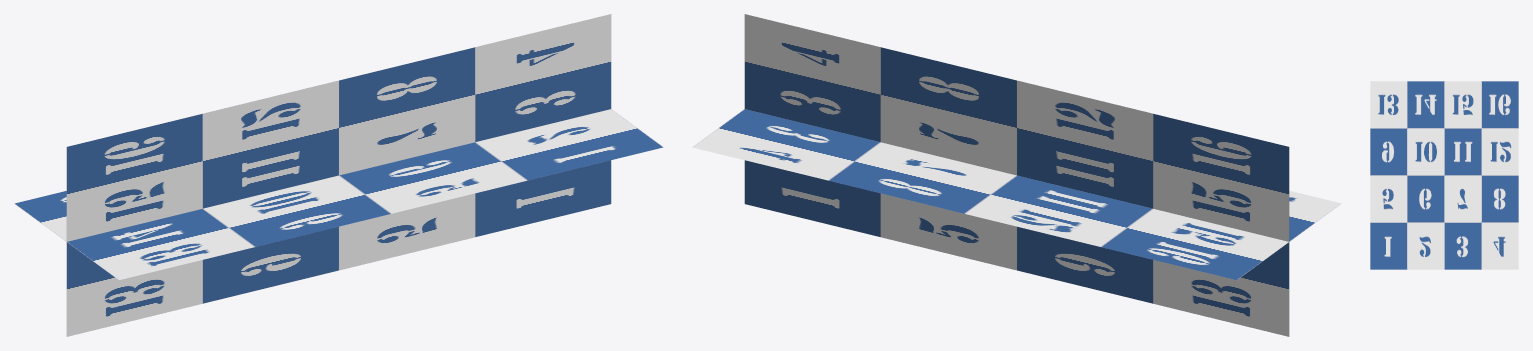
The model's file is Shinobu_LongCross.fbx.
3 renders of one model, left to right at view 1: azimuth 30°, elevation 25°; view 2: azimuth 150°, elevation 25°; view 3: azimuth 270°, elevation 25°, orthographic. The views are drawn at different scales.
Parts seen in each view (by area): view 1: SM_e_Skl_In_Slash003; view 2: SM_e_Skl_In_Slash003; view 3: SM_e_Skl_In_Slash003.
Boxes of the visible parts, x1=… form: SM_e_Skl_In_Slash003: x1=14, y1=14, x2=663, y2=336; SM_e_Skl_In_Slash003: x1=692, y1=14, x2=1341, y2=336; SM_e_Skl_In_Slash003: x1=1370, y1=81, x2=1518, y2=269.
Bounding box in the file's own units: 3 × 1 × 1.
